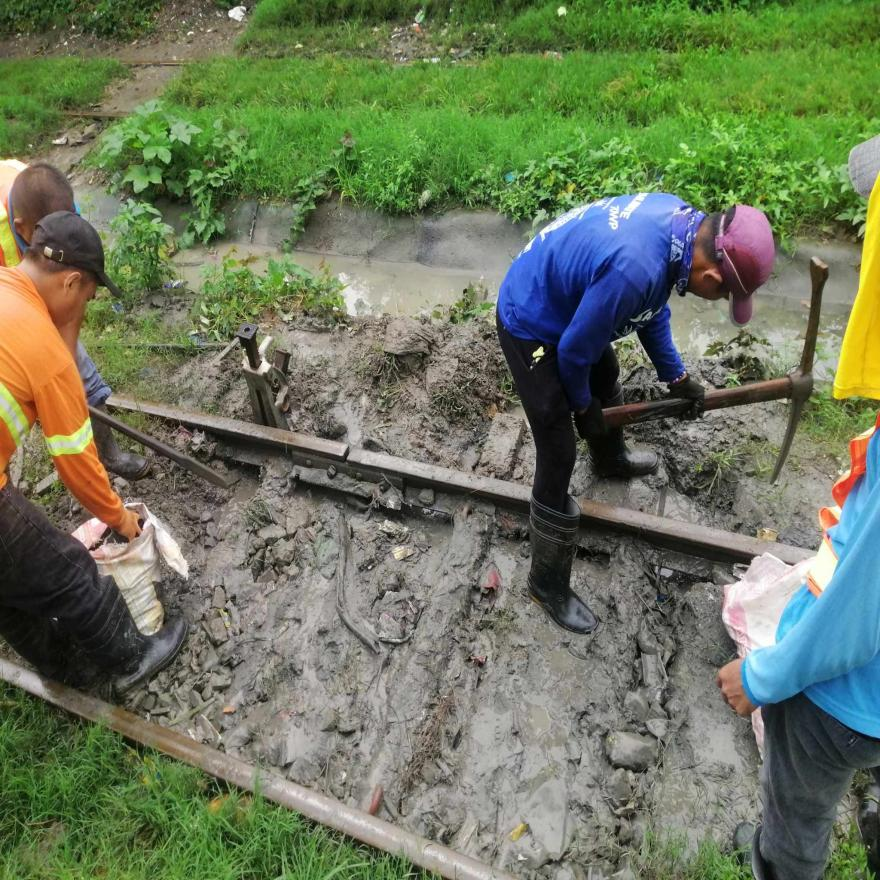railway-gap: (322, 424, 370, 485)
